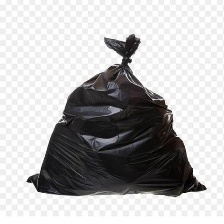plastic_bag: (22, 31, 211, 200)
